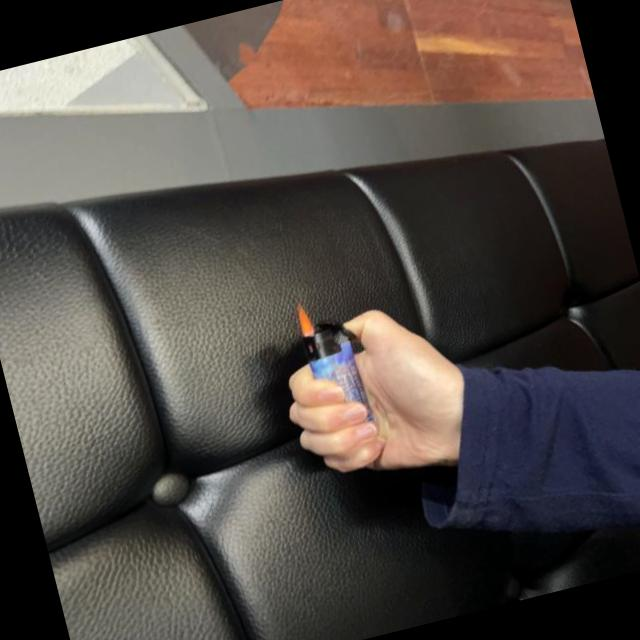fire: (295, 302, 317, 336)
